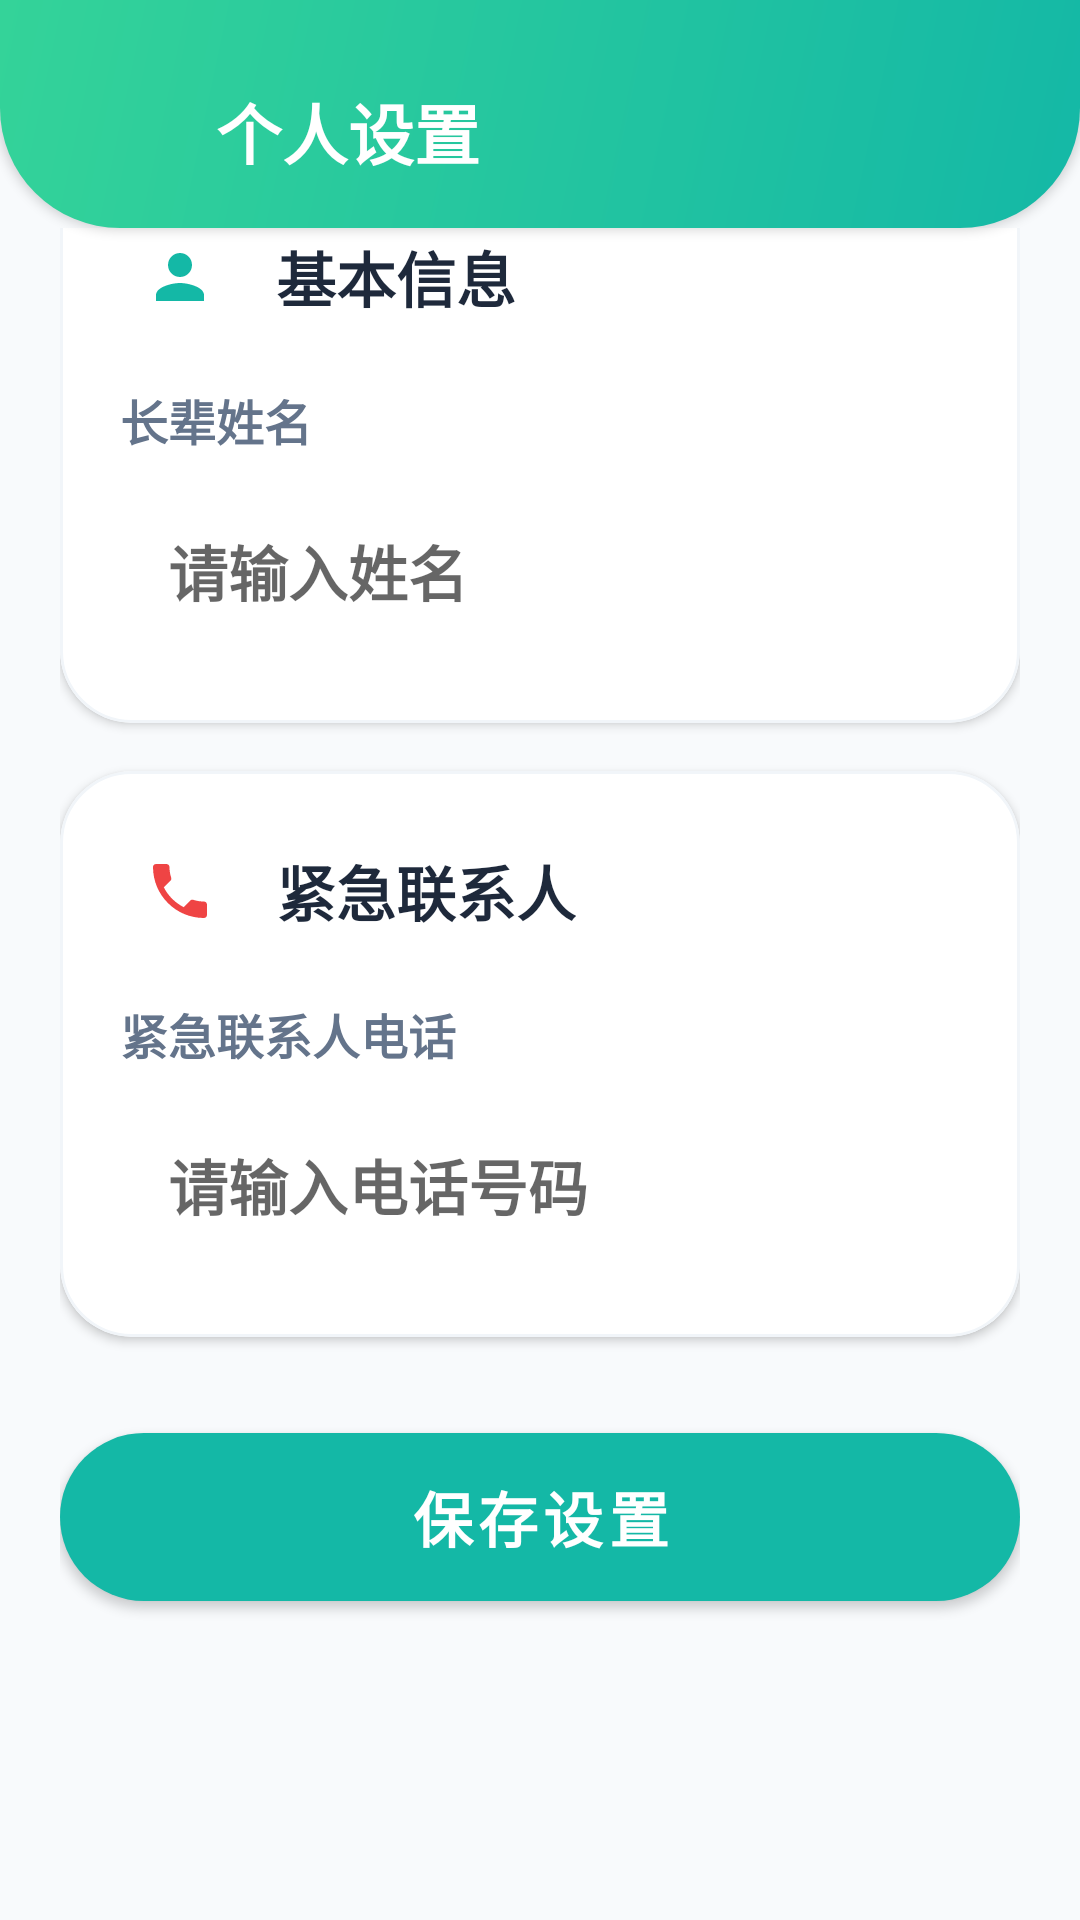

Icon bounding boxes for this 1080 × 1920 phone screenshot, format Rect(x1, y1, x2, y2):
emergency call: Rect(153, 864, 207, 918)
